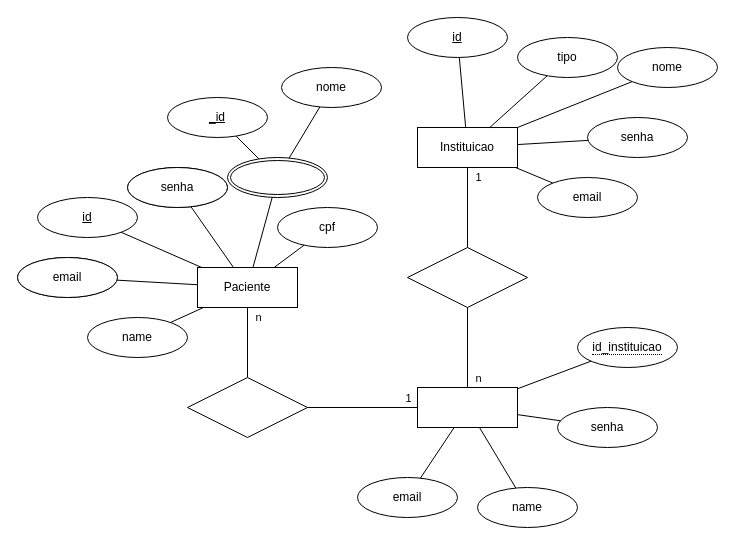
This 735x545 diagram has some shape labels left out. The shapes that lost their labels are listed below. From the top down, each one's centre as x and y in pixels, then its label:
At point (277, 177): "condicoes".
At point (467, 277): "Possui".
At point (247, 407): "Consulta".
At point (467, 407): "Dentista".
